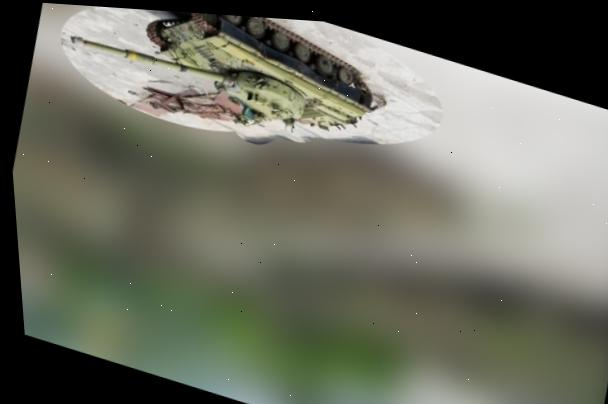tank: (56, 4, 390, 158)
